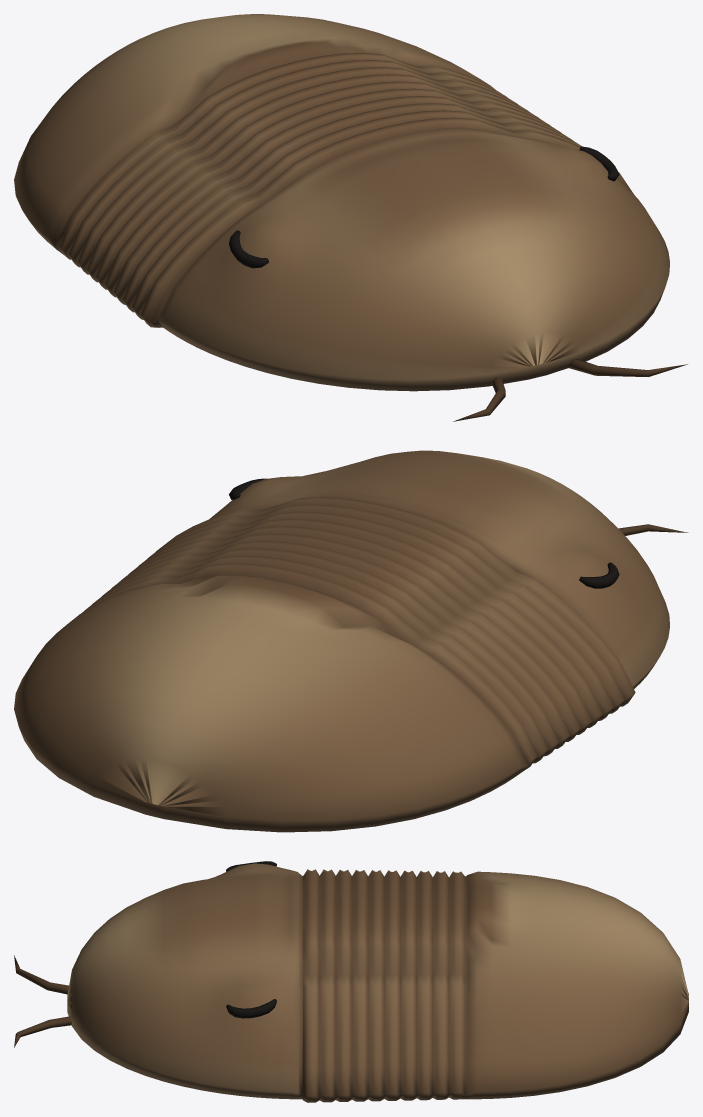
Rendered from BumastoidesMilleri.fbx.
3 views of the same model, one above another, from view 1: azimuth 30°, elevation 25°; view 2: azimuth 150°, elevation 25°; view 3: azimuth 270°, elevation 25° (orthographic). The views are drawn at different scales.
Visible parts, largest first — view 1: BumastoidesMilleri; view 2: BumastoidesMilleri; view 3: BumastoidesMilleri.
Boxes of the visible parts, bbox=[...] form: BumastoidesMilleri: bbox=[14, 14, 687, 421]; BumastoidesMilleri: bbox=[14, 450, 688, 832]; BumastoidesMilleri: bbox=[14, 861, 688, 1102].
Size of the model in its own units: 1.04 by 0.2864 by 1.52.
